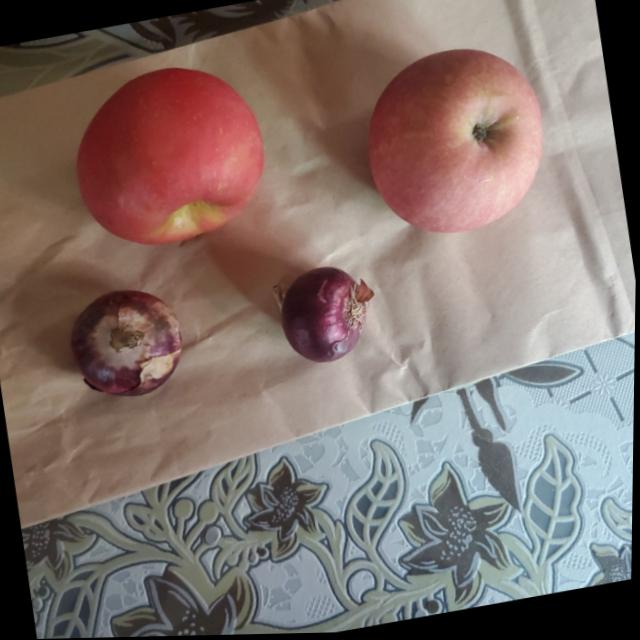apple: (64, 57, 277, 259), (355, 37, 554, 248)
onion: (66, 279, 195, 407), (275, 264, 370, 374)
